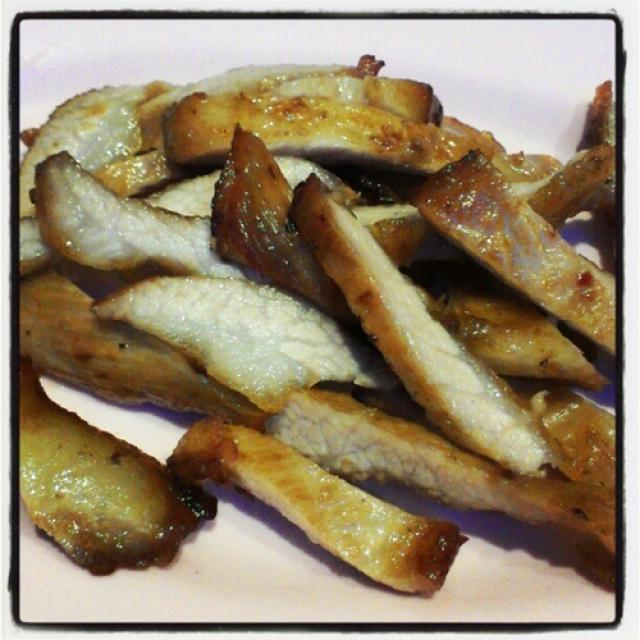猪肉菜式: (30, 47, 620, 599)
